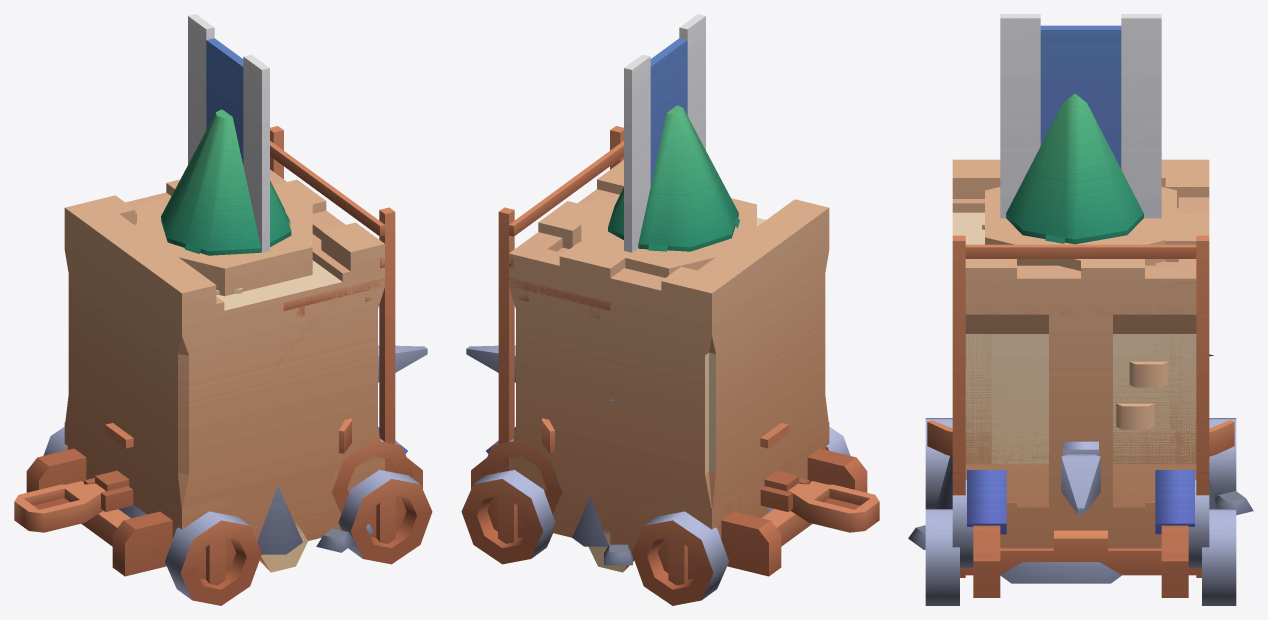
Rendered from world-castle.glb.
The picture shows the model from 3 angles, left to right: view 1: azimuth 30°, elevation 25°; view 2: azimuth 150°, elevation 25°; view 3: azimuth 270°, elevation 25°; orthographic projection. The views are drawn at different scales.
Parts seen in each view (by area): view 1: wall-half, wall-corner, wall-pillar, wheel (×3), tree-large, flag-banner-long, wall-doorway, wall-narrow-wood-fence, tower-hexagon-base, siege-catapult, tower-square-top-roof, catapult (+4 smaller); view 2: wall-half, wall-corner, wheel (×3), wall-pillar, flag-banner-long, tree-large, wall-doorway, wall-narrow-wood-fence, siege-catapult, tower-square-top-roof, tower-hexagon-base, catapult (+4 smaller); view 3: wall-pillar, wall-half, flag-banner-long, siege-catapult, tree-large, wall-narrow-wood-fence, wheel (×6), wall-corner, tower-square-top-roof, tower-square-mid, tower-hexagon-base, rocks-large (+4 smaller).
Part boxes in pixels (x1=…): wall-half: x1=64, y1=199, x2=384, y2=541; wall-corner: x1=64, y1=169, x2=384, y2=507; wall-pillar: x1=64, y1=170, x2=384, y2=517; wheel (×3): x1=165, y1=438, x2=432, y2=605; tree-large: x1=161, y1=109, x2=291, y2=255; flag-banner-long: x1=188, y1=14, x2=269, y2=252; wall-doorway: x1=64, y1=199, x2=283, y2=541; wall-narrow-wood-fence: x1=216, y1=126, x2=395, y2=472; tower-hexagon-base: x1=137, y1=196, x2=312, y2=295; siege-catapult: x1=26, y1=274, x2=422, y2=576; tower-square-top-roof: x1=64, y1=422, x2=384, y2=538; catapult: x1=14, y1=483, x2=106, y2=532; wall-half: x1=509, y1=217, x2=829, y2=537; wall-corner: x1=509, y1=189, x2=829, y2=507; wheel (×3): x1=461, y1=438, x2=728, y2=605; wall-pillar: x1=509, y1=160, x2=829, y2=503; flag-banner-long: x1=624, y1=14, x2=705, y2=252; tree-large: x1=608, y1=105, x2=739, y2=251; wall-doorway: x1=610, y1=221, x2=827, y2=551; wall-narrow-wood-fence: x1=498, y1=126, x2=709, y2=496; siege-catapult: x1=471, y1=427, x2=867, y2=576; tower-square-top-roof: x1=509, y1=422, x2=829, y2=538; tower-hexagon-base: x1=581, y1=195, x2=756, y2=277; catapult: x1=787, y1=483, x2=879, y2=532; wall-pillar: x1=952, y1=159, x2=1196, y2=547; wall-half: x1=952, y1=159, x2=1209, y2=547; flag-banner-long: x1=1000, y1=14, x2=1161, y2=218; siege-catapult: x1=965, y1=470, x2=1196, y2=597; tree-large: x1=1006, y1=93, x2=1143, y2=244; wall-narrow-wood-fence: x1=952, y1=213, x2=1209, y2=577; wheel (×6): x1=925, y1=418, x2=1236, y2=605; wall-corner: x1=953, y1=159, x2=1209, y2=507; tower-square-top-roof: x1=1000, y1=502, x2=1161, y2=548; tower-square-mid: x1=965, y1=334, x2=1196, y2=464; tower-hexagon-base: x1=985, y1=187, x2=1176, y2=270; rocks-large: x1=908, y1=456, x2=1253, y2=583.
Bounding box in the file's own units: 1.99 × 2.32 × 1.35.
Materials: 1 (1 with a texture image).
